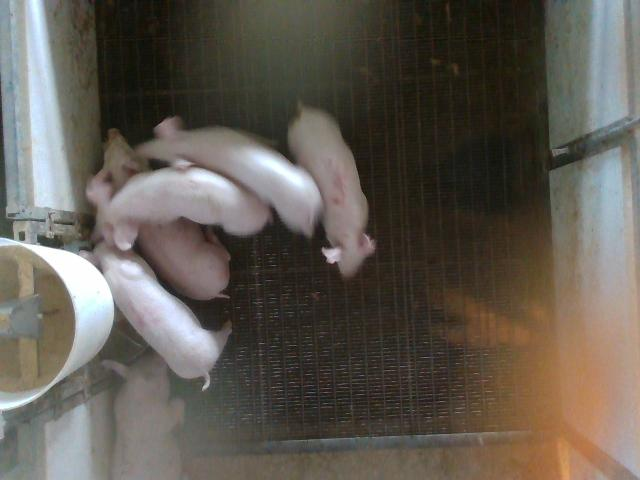pig-4: (81, 241, 231, 389)
pig-5: (289, 105, 375, 277)
